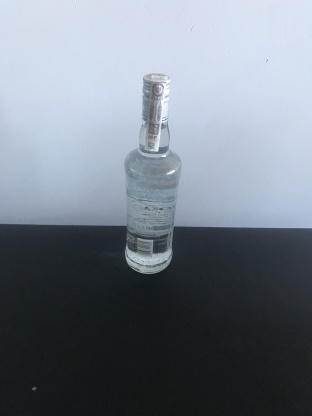nakretka: (139, 68, 174, 125)
